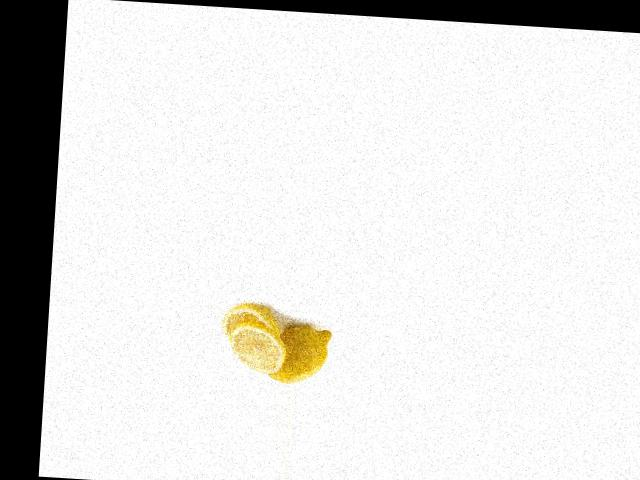lemon: (263, 319, 339, 387)
